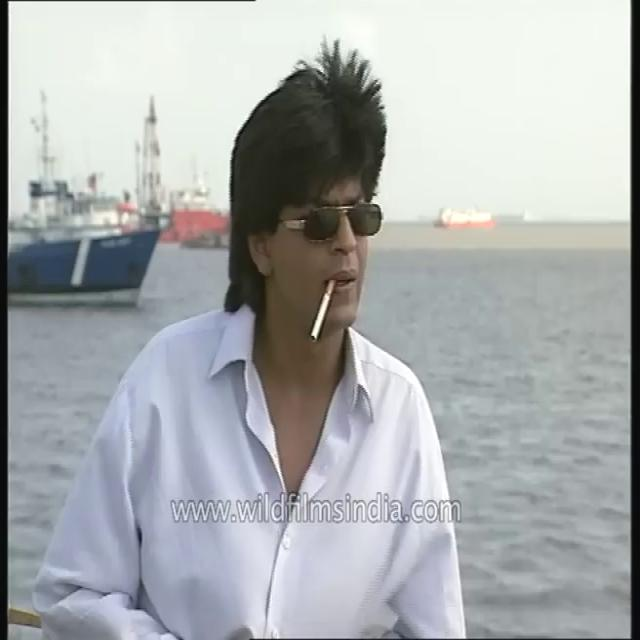Smooking: (298, 276, 344, 349)
